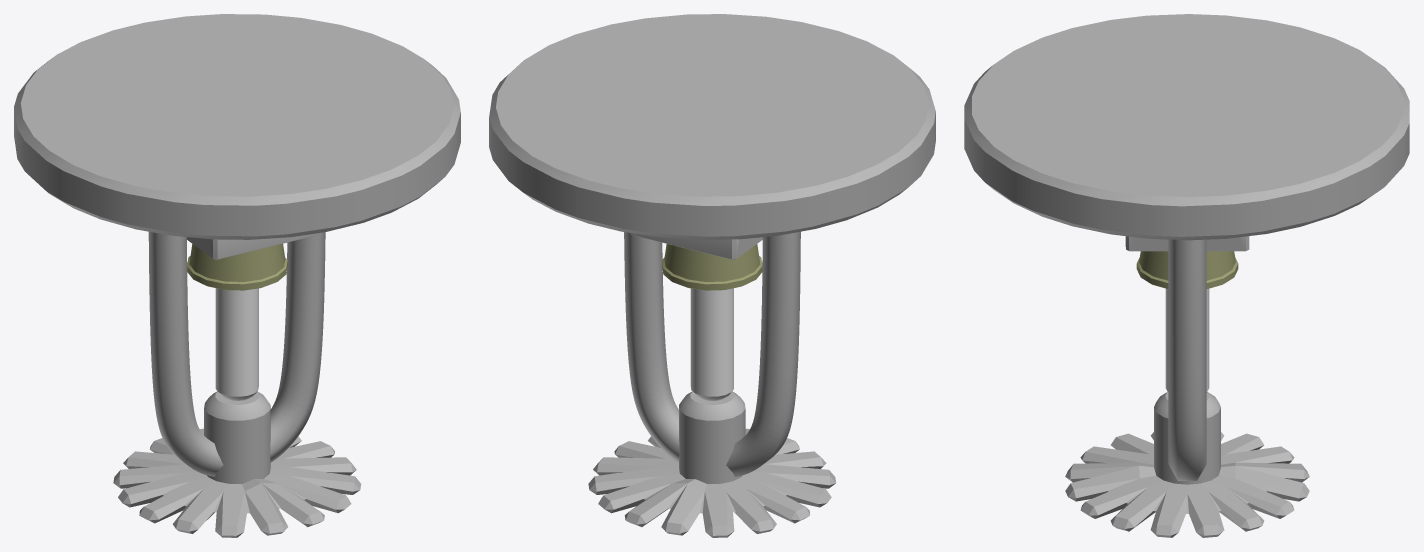
File: Fire Sprinkler.fbx
3 views of the same model, side by side, from view 1: azimuth 30°, elevation 25°; view 2: azimuth 150°, elevation 25°; view 3: azimuth 270°, elevation 25° (orthographic).
Visible parts, largest first — view 1: Base, Curve, Sprinkler, Cylinder, Cylinder.002, Cylinder.001; view 2: Base, Curve, Sprinkler, Cylinder, Cylinder.002, Cylinder.001; view 3: Base, Sprinkler, Curve, Cylinder.002, Cylinder, Cylinder.001.
Boxes of the visible parts, x1,y1,x2,y2 form: Base: (14,14,460,239); Curve: (148,231,325,476); Sprinkler: (113,428,361,537); Cylinder: (204,391,270,483); Cylinder.002: (187,233,319,290); Cylinder.001: (215,288,258,400); Base: (489,14,935,239); Curve: (624,231,800,476); Sprinkler: (588,428,835,537); Cylinder: (679,391,745,484); Cylinder.002: (630,233,762,290); Cylinder.001: (690,288,733,400); Base: (964,14,1409,240); Sprinkler: (1065,432,1309,537); Curve: (1168,239,1206,480); Cylinder.002: (1125,236,1249,288); Cylinder: (1154,392,1220,484); Cylinder.001: (1165,288,1209,392).
Size of the model in its own units: 64.5 by 61.61 by 64.23.
